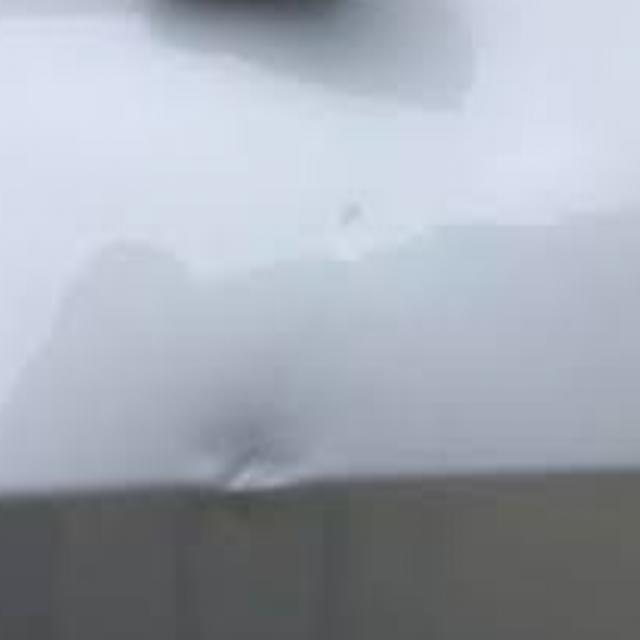dents: (195, 433, 299, 526), (322, 169, 380, 274)
